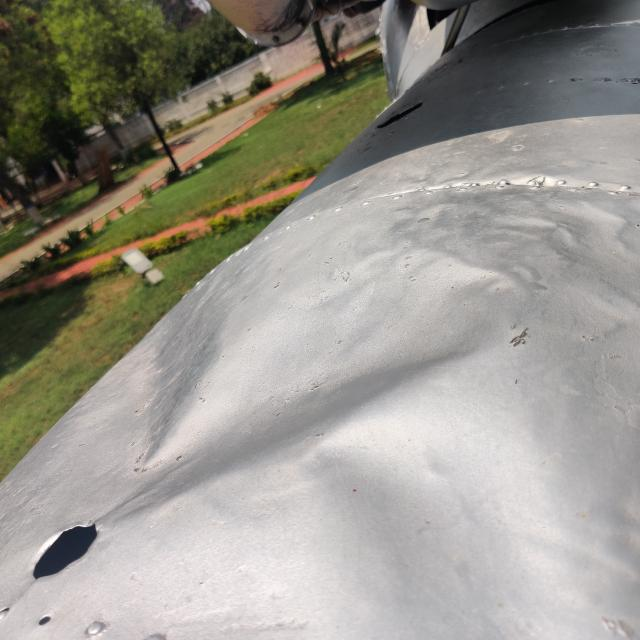dent: (95, 214, 502, 529), (526, 180, 640, 275)
